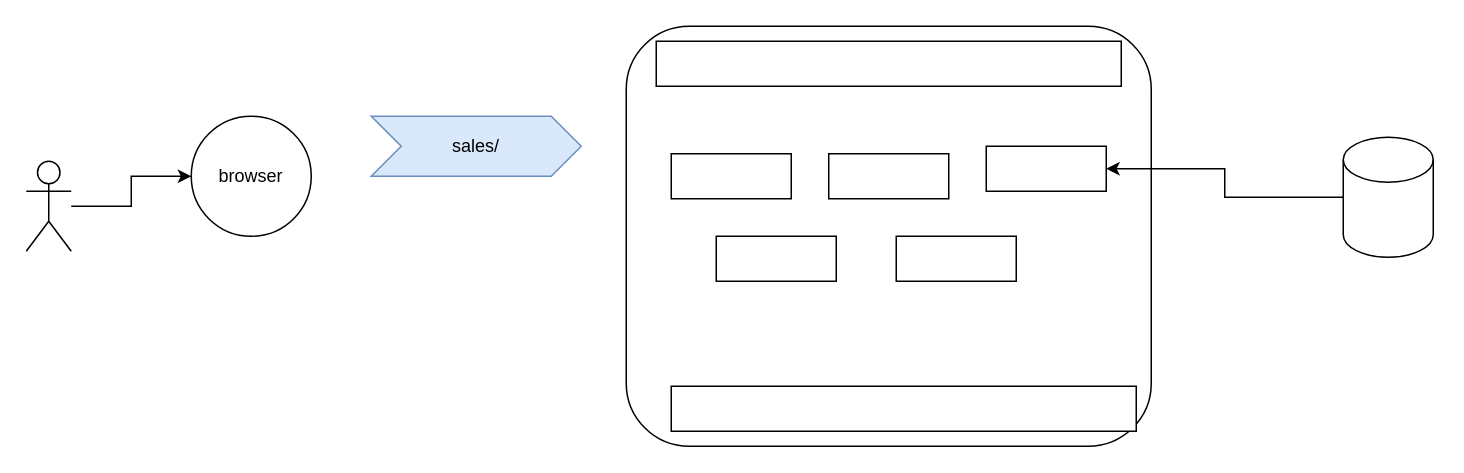
This 1464x473 diagram has some shape labels left out. The box of each missing label's shape, as (x1, y1, x2, y2) in pixels:
Actor: (25, 160, 71, 251)
объявления: (1342, 136, 1433, 257)
